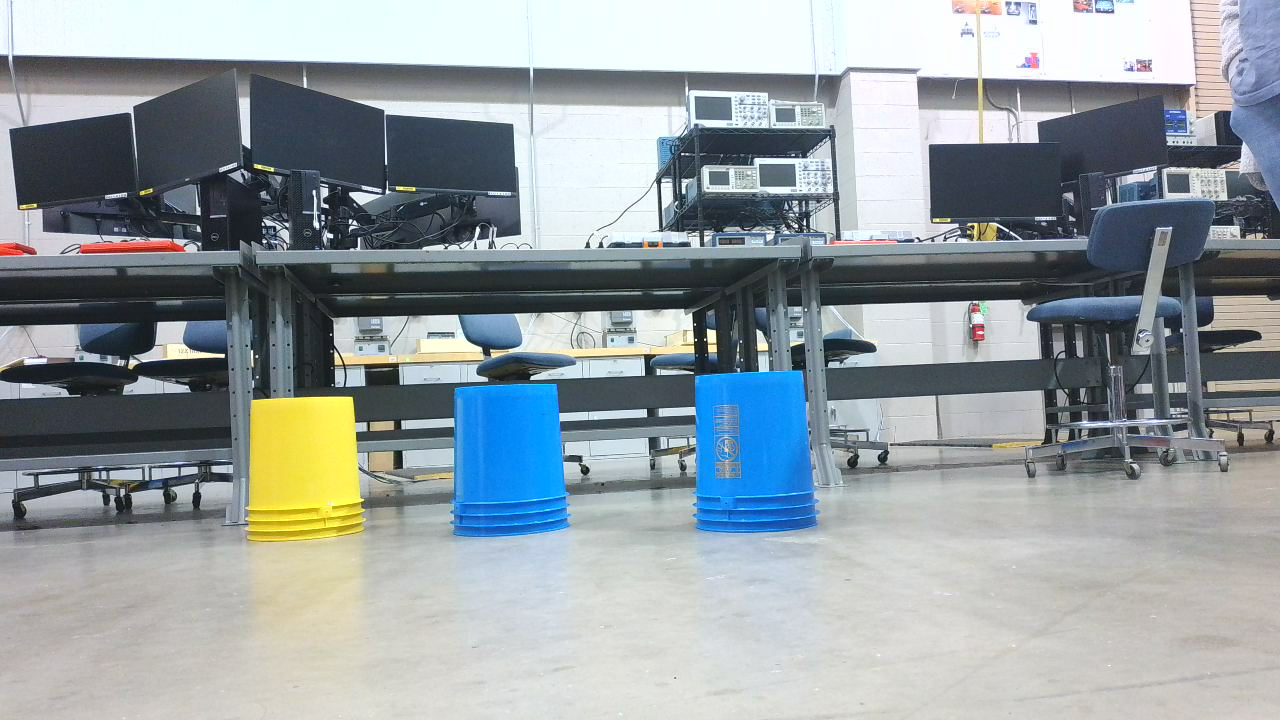blue_bucket: (695, 371, 831, 544), (453, 383, 577, 547)
yellow_bucket: (245, 393, 375, 556)
